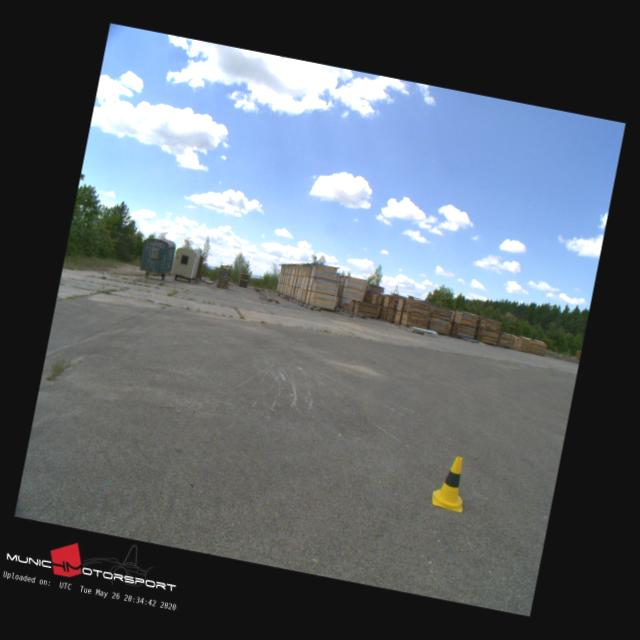yellow_cone: (430, 452, 472, 512)
